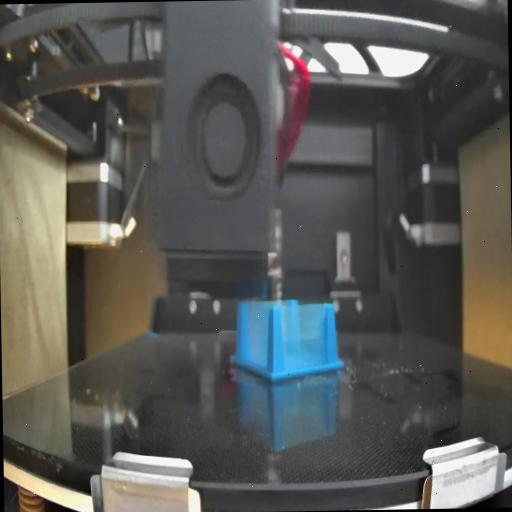stringing: (281, 306, 332, 374), (244, 302, 270, 370)
